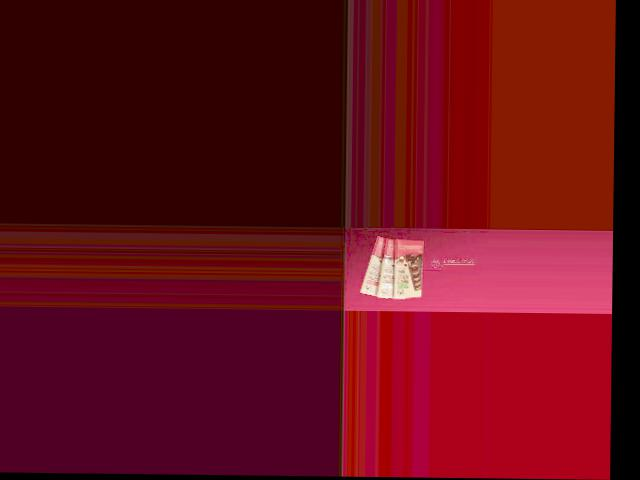chocolate: (360, 233, 391, 299)
